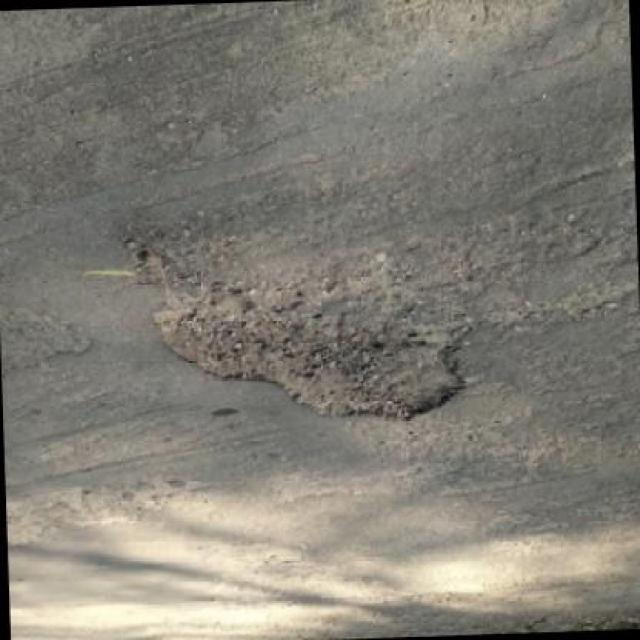pothole1: (148, 278, 474, 434)
